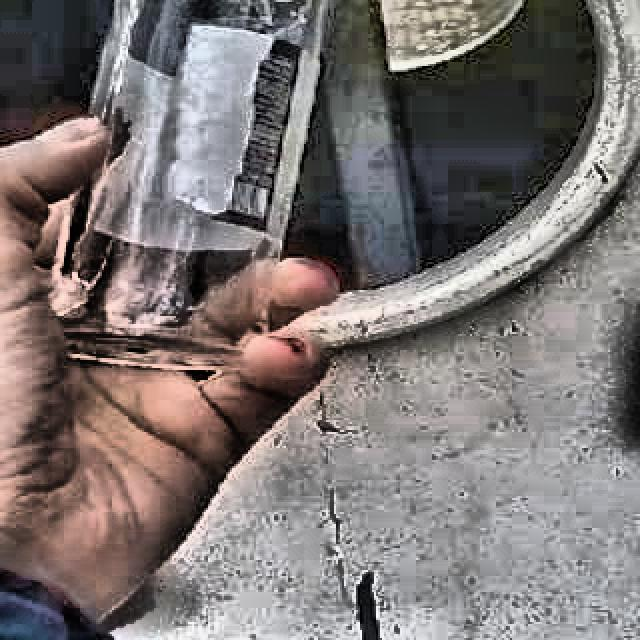glass: (56, 0, 331, 369)
